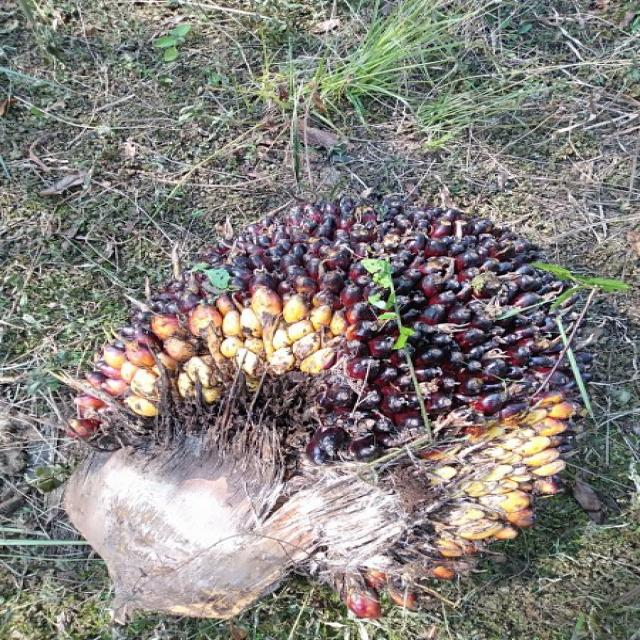fraksi 00: (72, 203, 592, 591)
